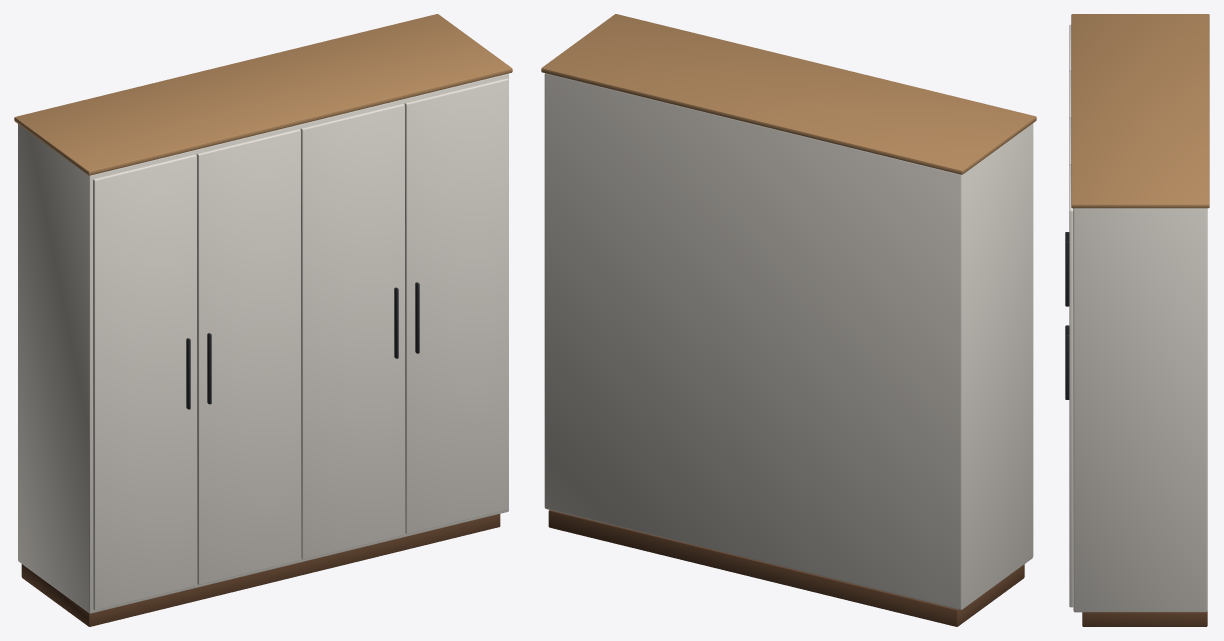
File: wardrobe_4.glb
The picture shows the model from 3 angles, left to right: view 1: azimuth 30°, elevation 25°; view 2: azimuth 150°, elevation 25°; view 3: azimuth 270°, elevation 25°; orthographic projection. The views are drawn at different scales.
Visible parts, largest first — view 1: box.009, box.005, box.007, box.003, box.001, box.002, box; view 2: box.001, box.002, box; view 3: box.001, box.002, box.009, box, box.006, box.010.
Boxes of the visible parts, bbox=[...] form: box.009: bbox=[404, 78, 508, 534]; box.005: bbox=[196, 129, 300, 584]; box.007: bbox=[300, 103, 404, 559]; box.003: bbox=[93, 154, 196, 610]; box.001: bbox=[18, 73, 508, 613]; box.002: bbox=[14, 14, 512, 175]; box: bbox=[21, 514, 500, 626]; box.001: bbox=[544, 73, 1033, 609]; box.002: bbox=[541, 14, 1036, 174]; box: bbox=[548, 510, 1024, 626]; box.001: bbox=[1073, 208, 1207, 612]; box.002: bbox=[1071, 14, 1209, 208]; box.009: bbox=[1069, 165, 1073, 607]; box: bbox=[1082, 611, 1207, 626]; box.006: bbox=[1065, 241, 1069, 306]; box.010: bbox=[1065, 335, 1069, 399].
Bounding box in the file's own units: 202 × 210 × 64.7.
